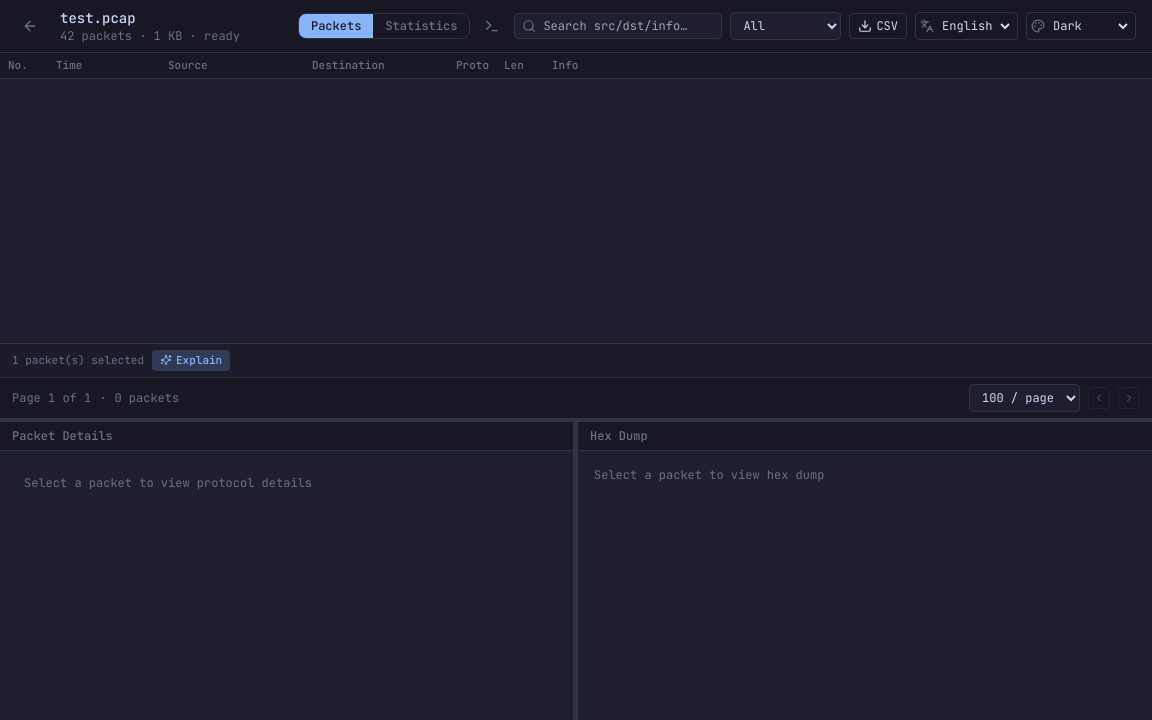
Scenario: CapturePage › surfaces the backend error when Explain fails (e.g. LLM not configured)
Check: the text "test.pcap" is shown, box x1=60 y1=9 x2=136 y2=27
Click the button with aria-label "Explain selected packets" at coordinates (191, 360), box x1=152 y1=350 x2=230 y2=371
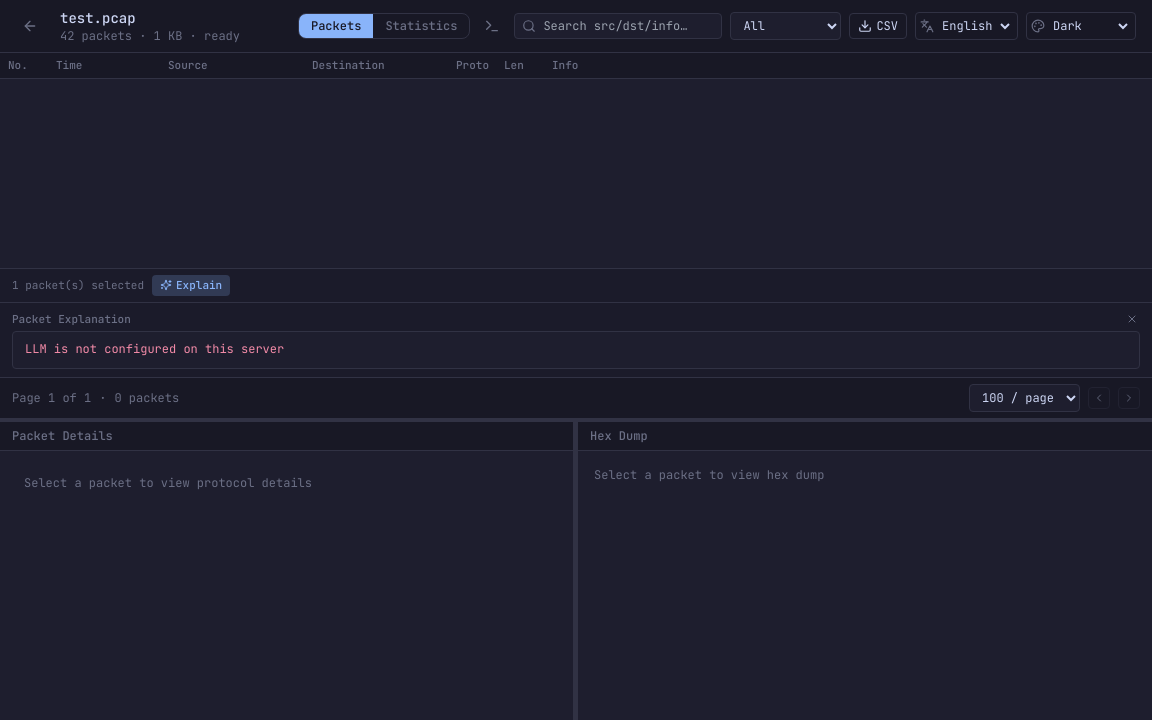
Check: the text "LLM is not configured on this server" is shown, box x1=25 y1=341 x2=284 y2=357
